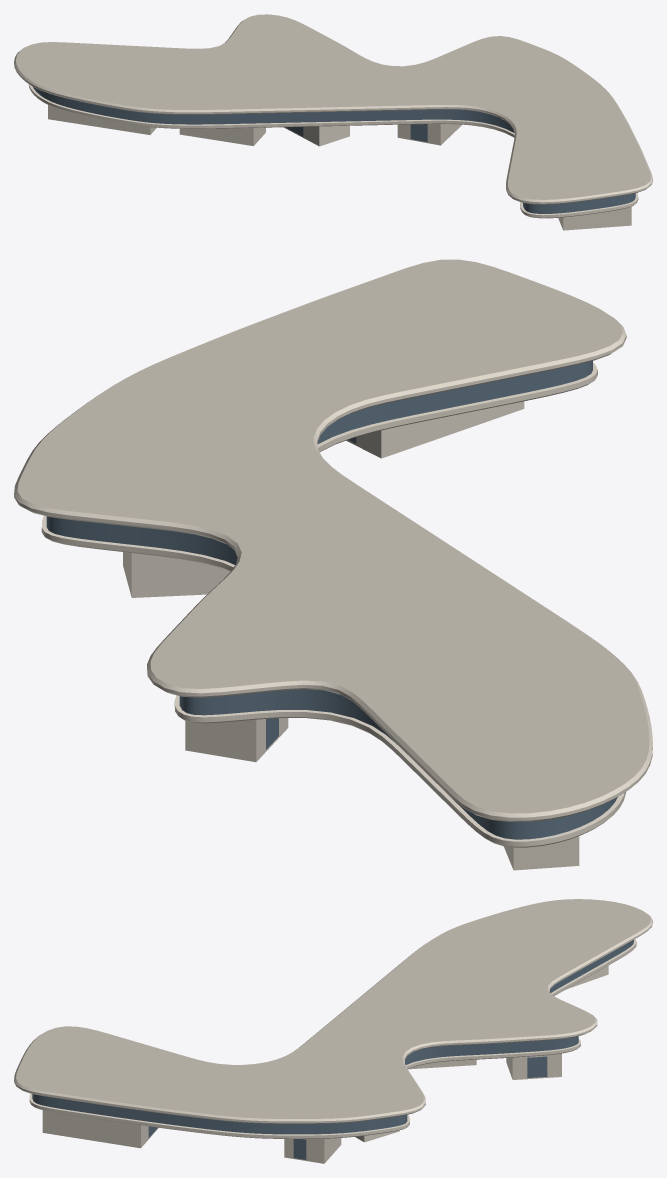
The model's file is detail.glb.
3 renders of one model, top to bottom at view 1: azimuth 30°, elevation 25°; view 2: azimuth 150°, elevation 25°; view 3: azimuth 270°, elevation 25°, orthographic. The views are drawn at different scales.
Visible parts, largest first — view 1: lacma-david-geffen-galleries; view 2: lacma-david-geffen-galleries; view 3: lacma-david-geffen-galleries.
Boxes of the visible parts, x1,y1,x2,y2 form: lacma-david-geffen-galleries: (14,14,652,230); lacma-david-geffen-galleries: (14,259,652,870); lacma-david-geffen-galleries: (14,899,652,1163).
Size of the model in its own units: 182 by 19.7 by 222.
